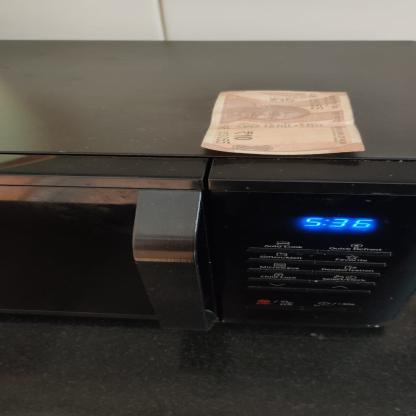New10Front: (199, 89, 367, 156)
